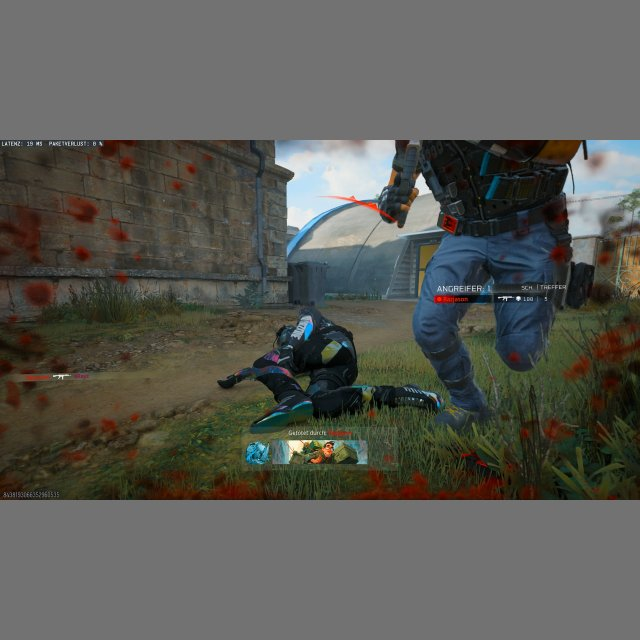head: (406, 141, 580, 231)
player: (371, 141, 583, 494)
